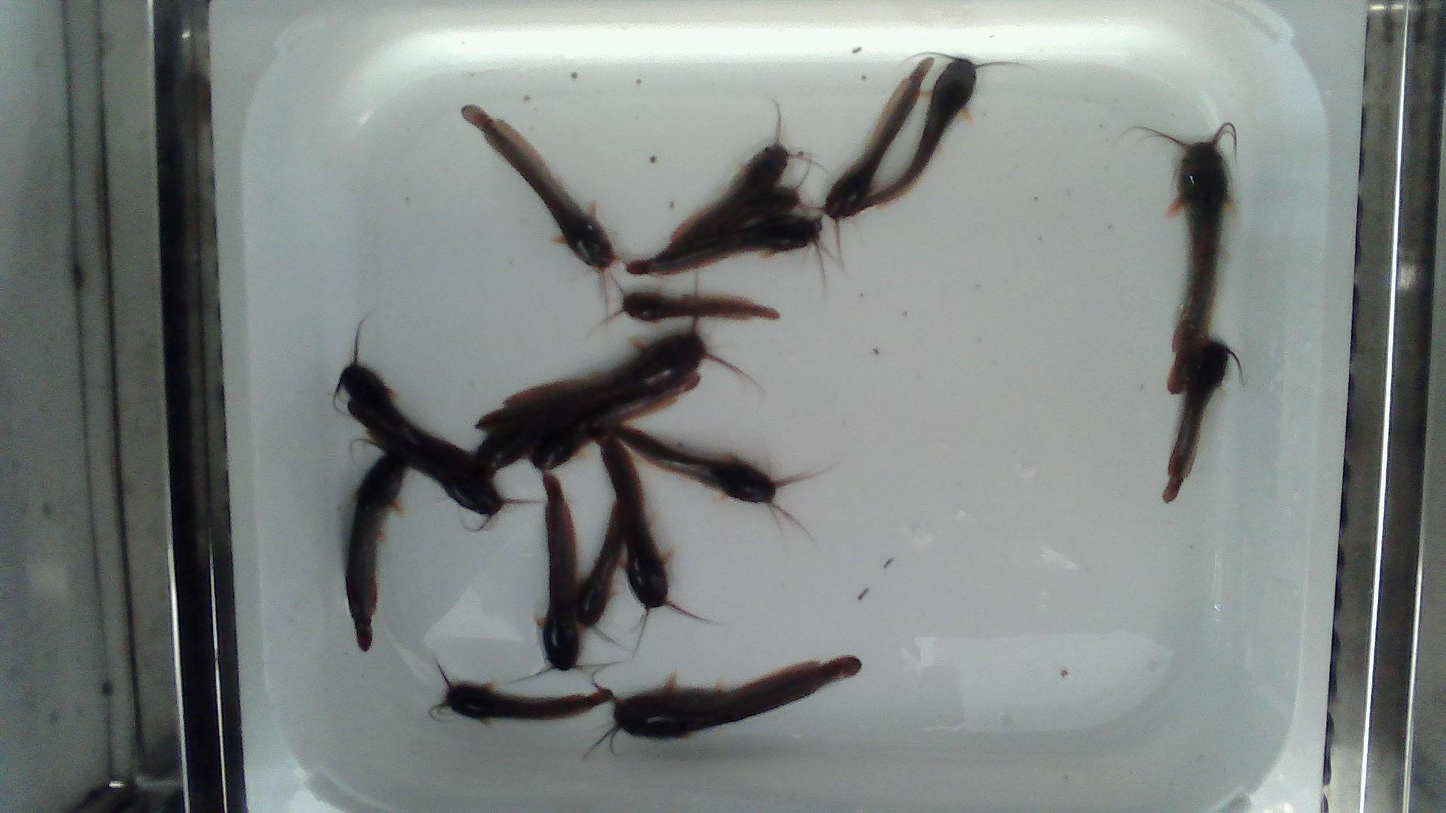lele: (462, 106, 615, 271), (477, 332, 709, 427), (614, 656, 861, 738), (348, 403, 500, 515), (867, 62, 978, 207), (829, 59, 928, 218), (335, 366, 476, 471), (1169, 145, 1228, 395), (534, 380, 694, 469), (668, 144, 793, 249), (618, 427, 786, 503), (345, 453, 410, 649), (1164, 338, 1235, 501), (601, 443, 668, 609), (624, 216, 817, 271), (480, 397, 613, 467), (540, 478, 583, 670), (438, 683, 612, 721), (578, 502, 624, 627), (622, 291, 779, 321), (725, 185, 801, 232)
